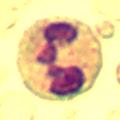neutrophil: (16, 16, 105, 101)
